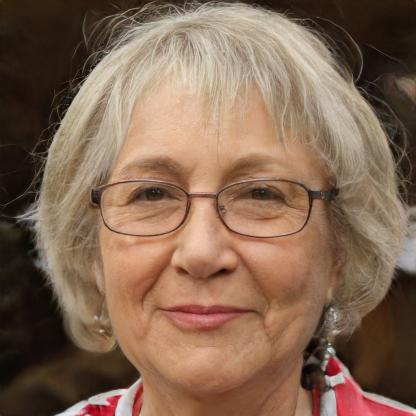glasses: (89, 173, 322, 244)
